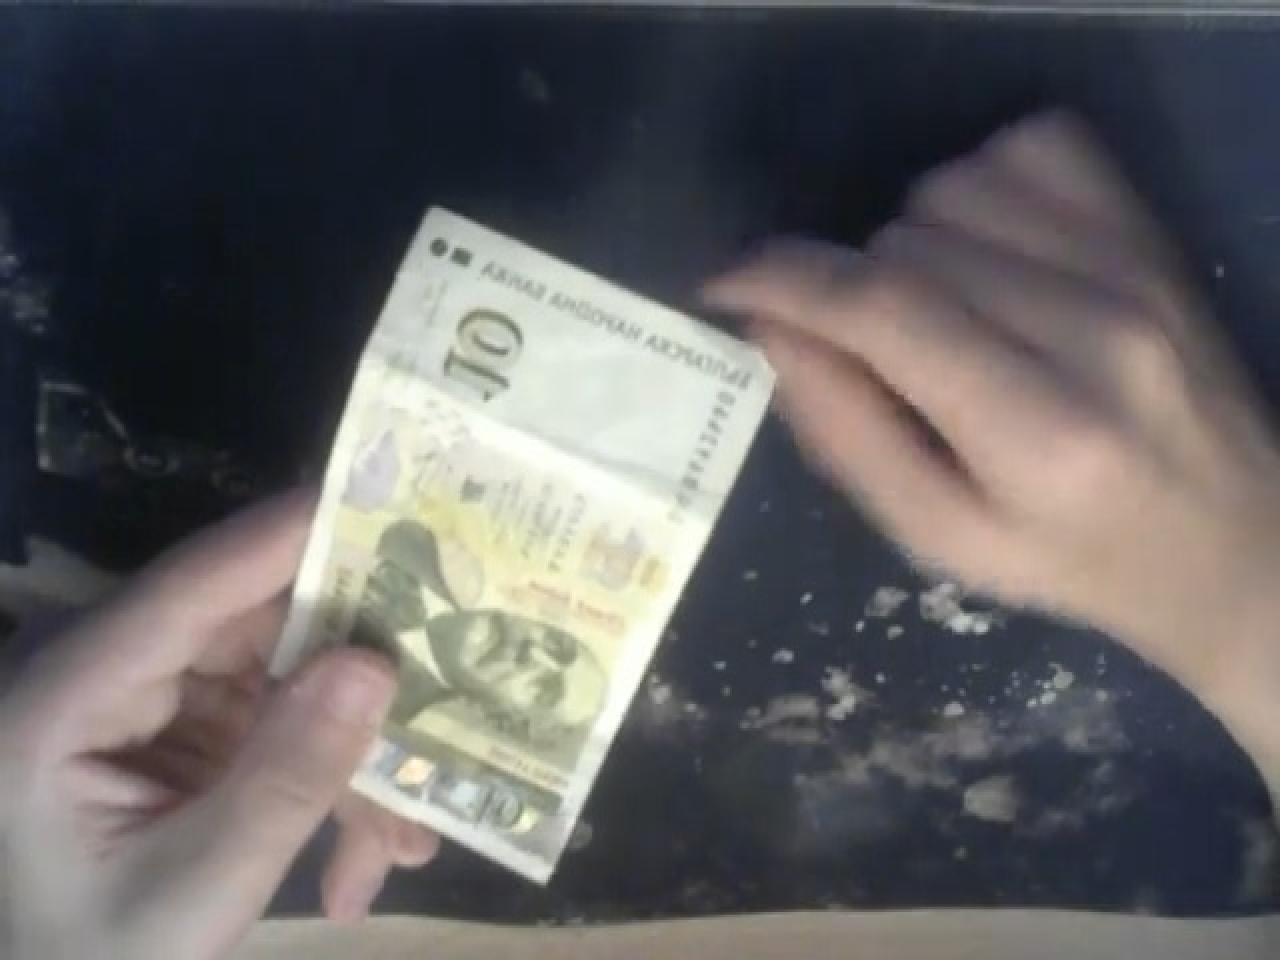10leva: (413, 285, 548, 427)
